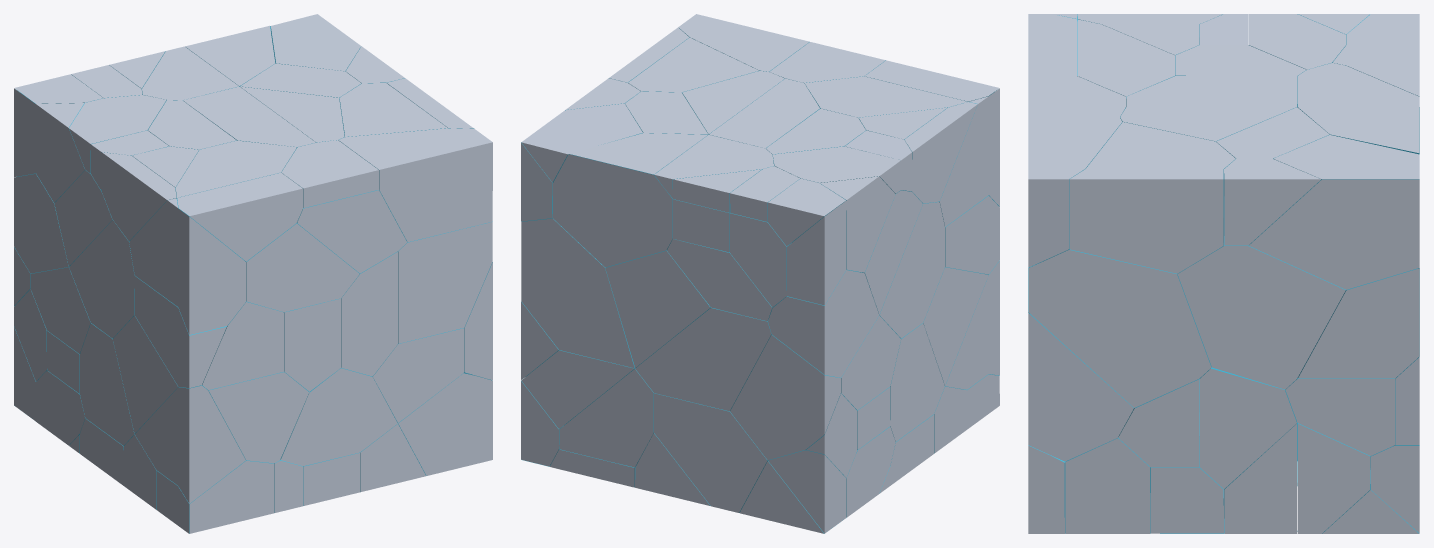
The picture shows the model from 3 angles, left to right: view 1: azimuth 30°, elevation 25°; view 2: azimuth 150°, elevation 25°; view 3: azimuth 270°, elevation 25°; orthographic projection. The views are drawn at different scales.
Parts seen in each view (by area): view 1: Cube_cell.039, Cube_cell.035, Cube_cell.082, Cube_cell.070, Cube_cell.031, Cube_cell.021, Cube_cell.008, Cube_cell.013, Cube_cell.027, Cube_cell.051, Cube_cell.001, Cube_cell.057 (+45 smaller); view 2: Cube_cell.004, Cube_cell.053, Cube_cell.078, Cube_cell.052, Cube_cell.014, Cube_cell.089, Cube_cell.030, Cube_cell.093, Cube_cell.002, Cube_cell.072, Cube_cell.037, Cube_cell.005 (+46 smaller); view 3: Cube_cell.032, Cube_cell.011, Cube_cell.065, Cube_cell.079, Cube_cell.074, Cube_cell.007, Cube_cell.056, Cube_cell.039, Cube_cell.097, Cube_cell.025, Cube_cell.040, Cube_cell.075 (+26 smaller).
Boxes of the visible parts, x1,y1,x2,y2 form: Cube_cell.039: (338, 128, 492, 242); Cube_cell.035: (398, 221, 492, 343); Cube_cell.082: (280, 368, 397, 466); Cube_cell.070: (398, 373, 492, 475); Cube_cell.031: (177, 172, 302, 261); Cube_cell.021: (243, 223, 359, 312); Cube_cell.008: (178, 208, 245, 334); Cube_cell.013: (203, 372, 309, 463); Cube_cell.027: (341, 251, 397, 376); Cube_cell.051: (297, 190, 407, 273); Cube_cell.001: (372, 328, 464, 422); Cube_cell.057: (178, 385, 245, 503); Cube_cell.004: (521, 218, 634, 368); Cube_cell.053: (552, 154, 672, 267); Cube_cell.078: (635, 307, 771, 411); Cube_cell.052: (730, 335, 840, 460); Cube_cell.014: (654, 393, 767, 512); Cube_cell.089: (605, 250, 710, 367); Cube_cell.030: (768, 269, 879, 377); Cube_cell.093: (559, 369, 653, 467); Cube_cell.002: (879, 201, 944, 338); Cube_cell.072: (521, 350, 636, 428); Cube_cell.037: (521, 103, 642, 182); Cube_cell.005: (786, 200, 846, 305); Cube_cell.032: (1028, 249, 1211, 407); Cube_cell.011: (1177, 235, 1345, 389); Cube_cell.065: (1069, 169, 1223, 273); Cube_cell.079: (1249, 179, 1419, 289); Cube_cell.074: (1297, 268, 1419, 378); Cube_cell.007: (1028, 313, 1133, 461); Cube_cell.056: (1199, 367, 1296, 488); Cube_cell.039: (1028, 117, 1122, 267); Cube_cell.097: (1065, 437, 1150, 533); Cube_cell.025: (1285, 378, 1394, 455); Cube_cell.040: (1297, 423, 1370, 533); Cube_cell.075: (1224, 423, 1297, 533).
Bounding box in the file's own units: 2 × 2 × 2.
